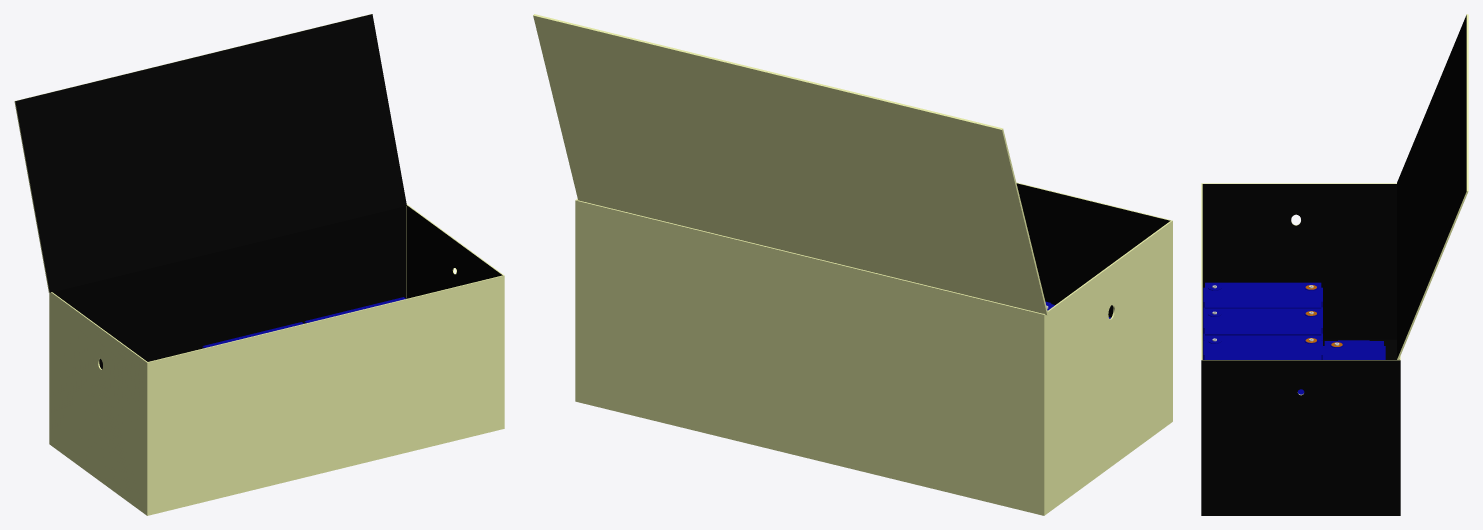
File: Battery.fbx
3 views of the same model, side by side, from view 1: azimuth 30°, elevation 25°; view 2: azimuth 150°, elevation 25°; view 3: azimuth 270°, elevation 25° (orthographic). The views are drawn at different scales.
Visible parts, largest first — view 1: Mesh1, Mesh2; view 2: Mesh1, Mesh2; view 3: Mesh1, Mesh2, Mesh6, Mesh4, Mesh8, Mesh16.
Boxes of the visible parts, bbox=[...] form: Mesh1: bbox=[49, 204, 504, 515]; Mesh2: bbox=[14, 14, 406, 292]; Mesh1: bbox=[575, 182, 1172, 515]; Mesh2: bbox=[533, 14, 1048, 314]; Mesh1: bbox=[1201, 183, 1400, 515]; Mesh2: bbox=[1397, 14, 1468, 359]; Mesh6: bbox=[1203, 308, 1322, 340]; Mesh4: bbox=[1203, 282, 1322, 313]; Mesh8: bbox=[1203, 335, 1322, 359]; Mesh16: bbox=[1323, 340, 1385, 359].
Bounding box in the file's own units: 1161 × 737 × 988.
